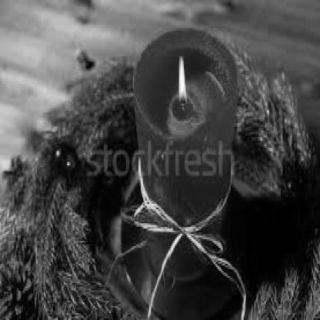Fire: (172, 51, 192, 113)
